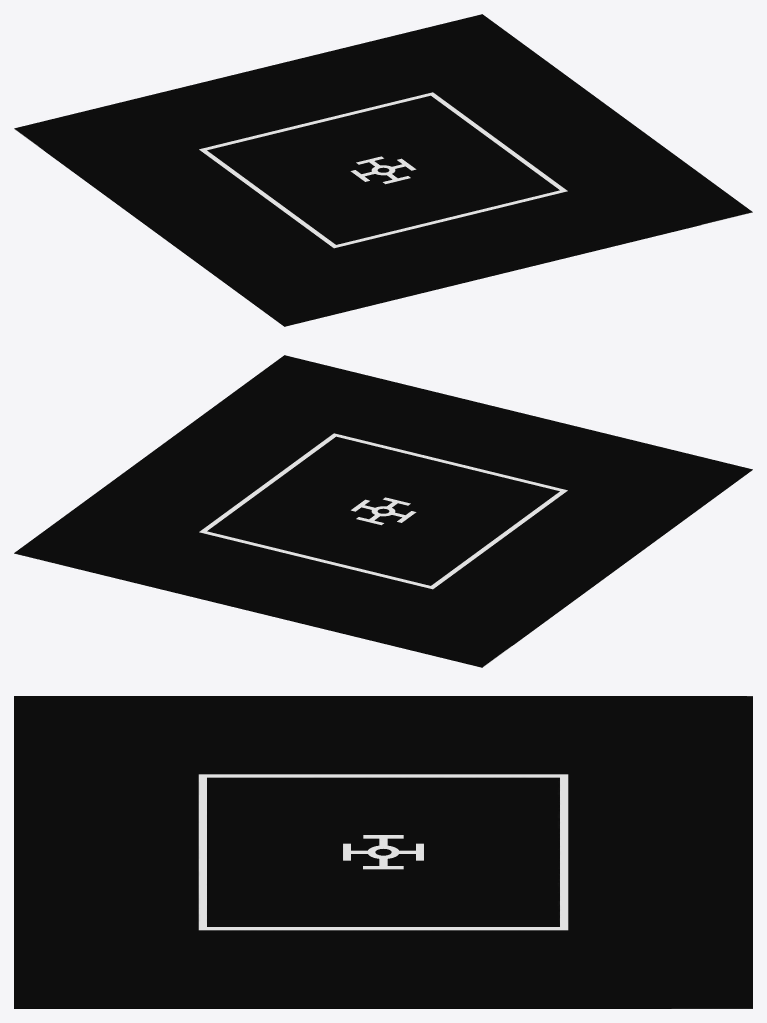
Rendered from land_marker_FATO.dae.
3 views of the same model, one above another, from view 1: azimuth 30°, elevation 25°; view 2: azimuth 150°, elevation 25°; view 3: azimuth 270°, elevation 25° (orthographic). The views are drawn at different scales.
Parts seen in each view (by area): view 1: Part3; view 2: Part3; view 3: Part3.
Boxes of the visible parts, left/top/right/bottom form: Part3: left=14, top=14, right=752, bottom=326; Part3: left=14, top=355, right=752, bottom=667; Part3: left=14, top=696, right=752, bottom=1008.
Bounding box in the file's own units: 27.38 × 27.38 × 0.02.
1 material, 1 textured.
